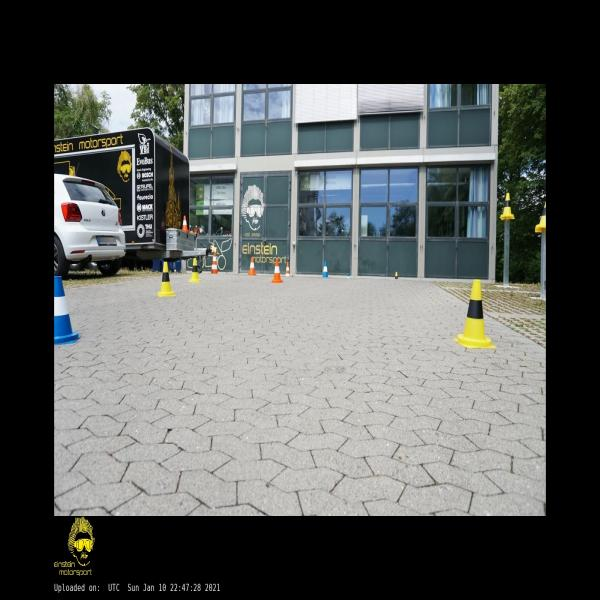blue_cone: (54, 276, 82, 344), (323, 260, 328, 278)
large_orange_cone: (211, 253, 218, 274), (286, 262, 290, 276)
orange_cone: (272, 259, 282, 283), (248, 257, 256, 275), (182, 216, 189, 232)
yellow_cone: (453, 279, 496, 348), (157, 262, 176, 296), (500, 193, 514, 220), (535, 201, 546, 232), (189, 258, 200, 282), (395, 271, 398, 279)
